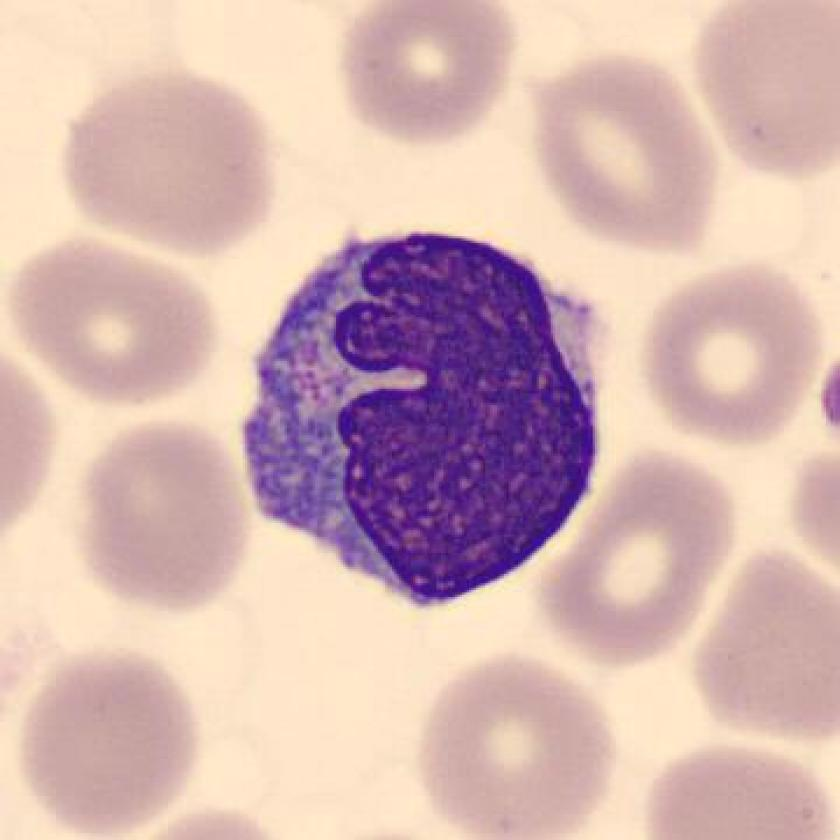monocyte: (211, 209, 629, 628)
